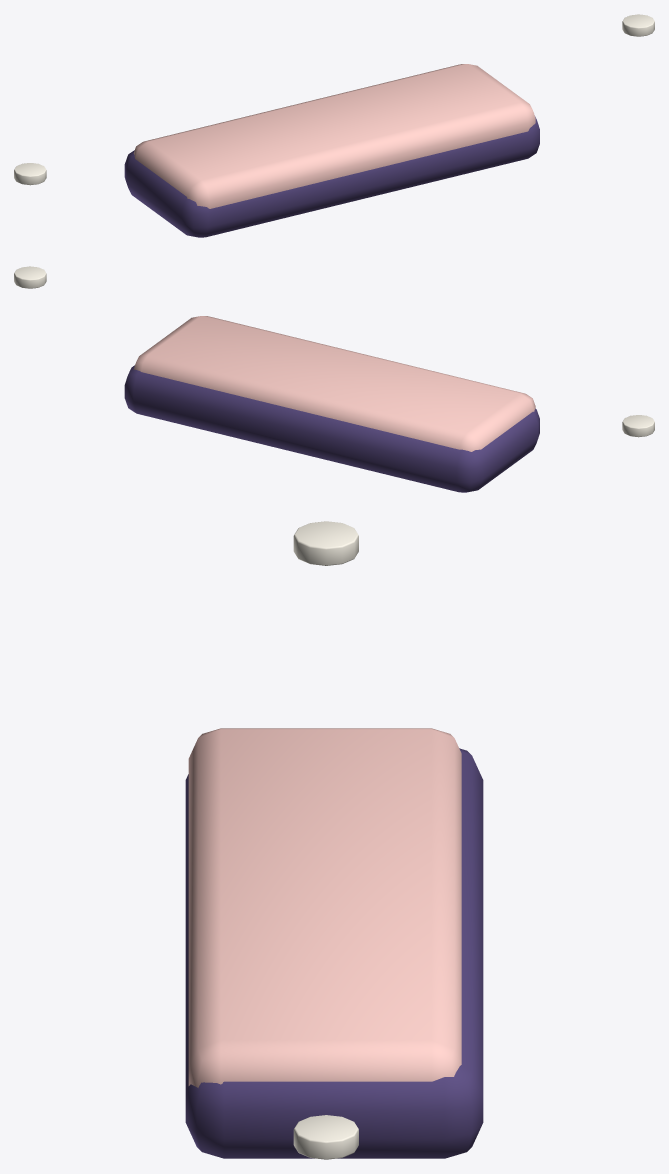
Rendered from music_bar_1.glb.
3 views of the same model, one above another, from view 1: azimuth 30°, elevation 25°; view 2: azimuth 150°, elevation 25°; view 3: azimuth 270°, elevation 25° (orthographic). The views are drawn at different scales.
Visible parts, largest first — view 1: PaintedKey.001, InkKey.001, PearlPin_1.001, PearlPin_-1.001; view 2: PaintedKey.001, InkKey.001, PearlPin_1.001, PearlPin_-1.001; view 3: PaintedKey.001, InkKey.001, PearlPin_-1.001, PearlPin_1.001.
Boxes of the visible parts, x1,y1,x2,y2 form: PaintedKey.001: (133,64,535,208); InkKey.001: (124,116,539,237); PearlPin_1.001: (622,14,654,36); PearlPin_-1.001: (14,163,46,185); PaintedKey.001: (133,316,535,451); InkKey.001: (124,365,539,492); PearlPin_1.001: (14,266,46,288); PearlPin_-1.001: (622,415,654,437); PaintedKey.001: (188,728,461,1087); InkKey.001: (185,748,483,1158); PearlPin_-1.001: (293,521,358,565); PearlPin_1.001: (293,1115,358,1159).
Size of the model in its own units: 7.21 by 0.9125 by 1.46.
